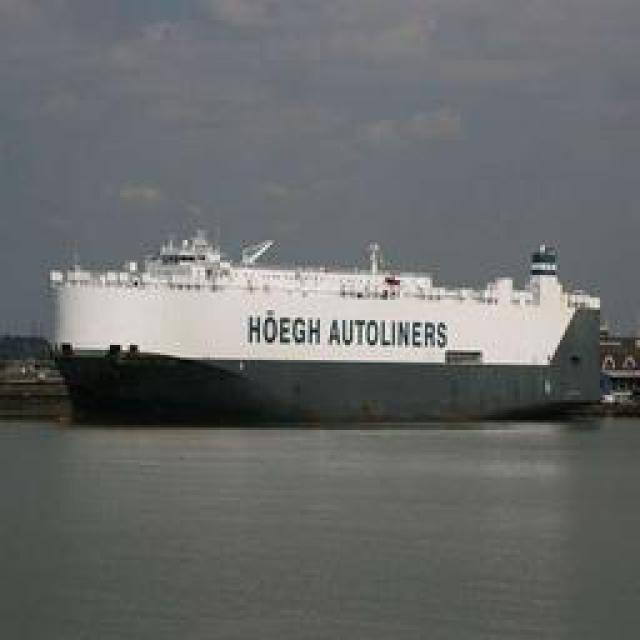Ship: (40, 229, 630, 412)
